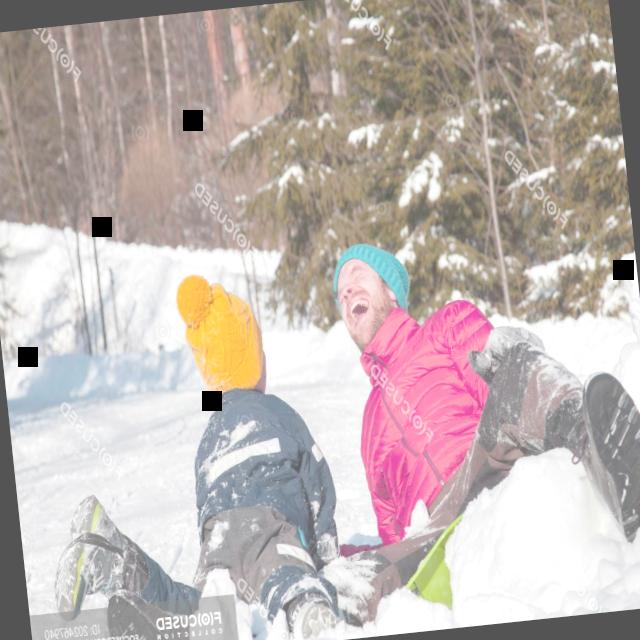Fall-Detected: (272, 174, 640, 640)
